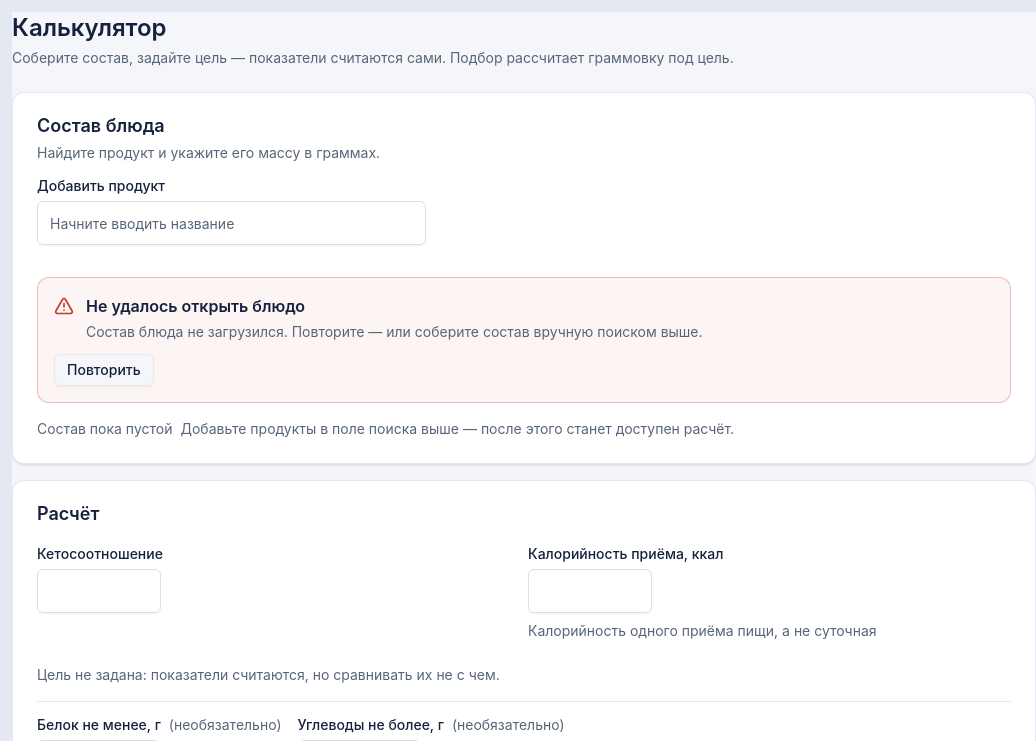
Test: блюдо из рецепта › пока состав дочитывается — скелетон, при отказе — ошибка с повтором
Expected: the text "Не удалось открыть блюдо" is shown, [86,296,305,316]
Click the button "Повторить": (104, 370) [54,354,154,386]
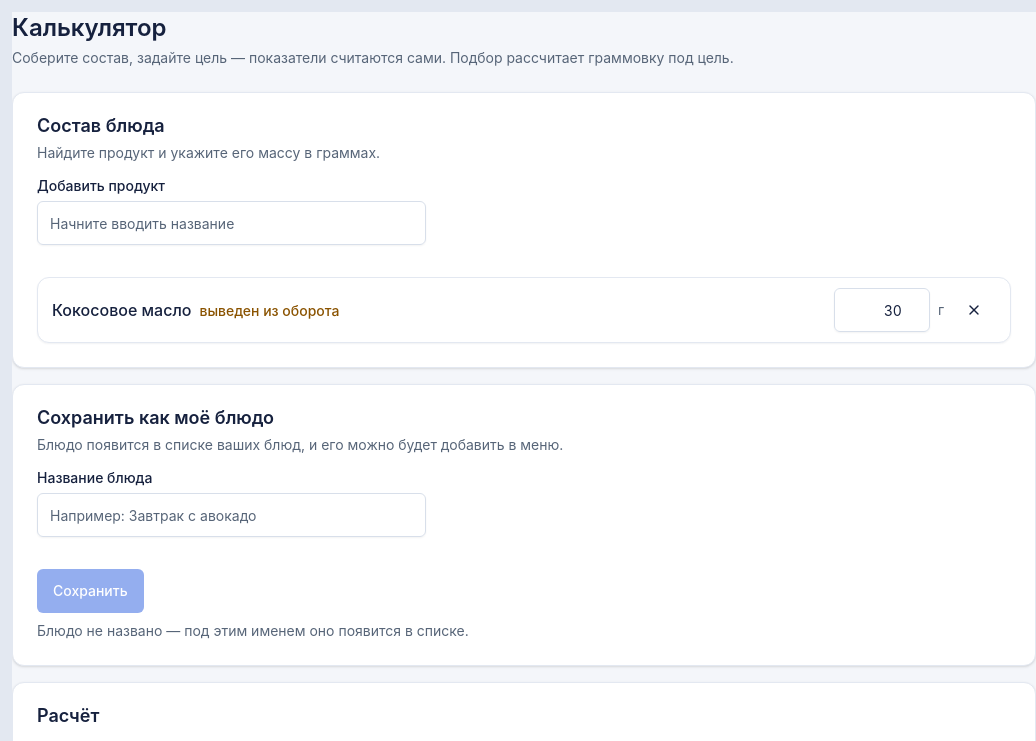
Result: the text "Кокосовое масло" is shown at [52,300,192,320]
Result: the text "Не удалось открыть блюдо" is gone
